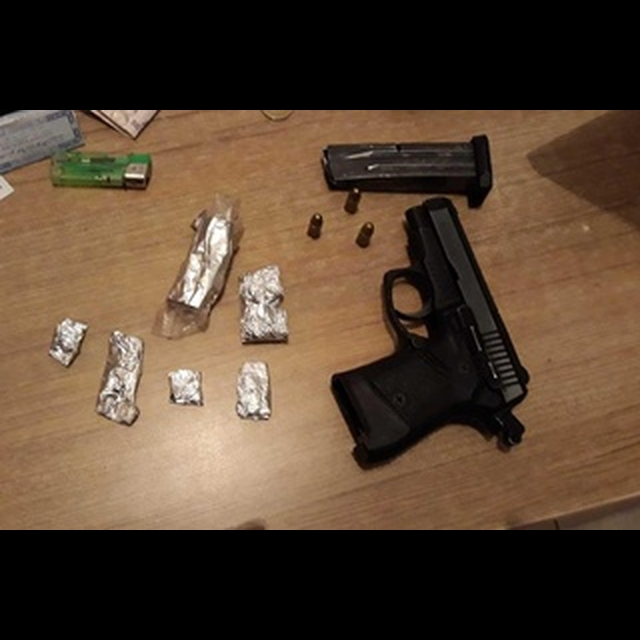SILAH: (344, 194, 546, 481)
